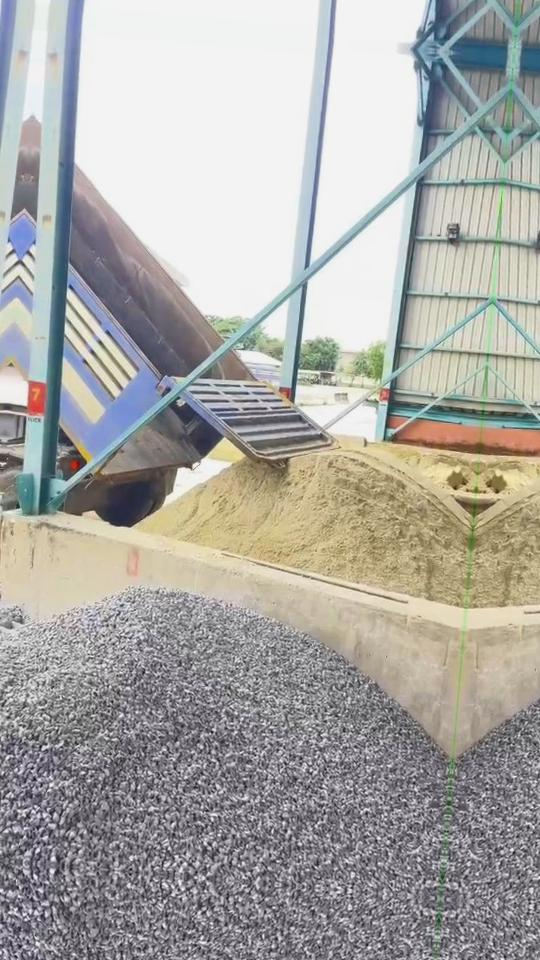gravel: (0, 588, 449, 898), (0, 603, 24, 643)
sand: (139, 445, 473, 604), (403, 454, 476, 492)
